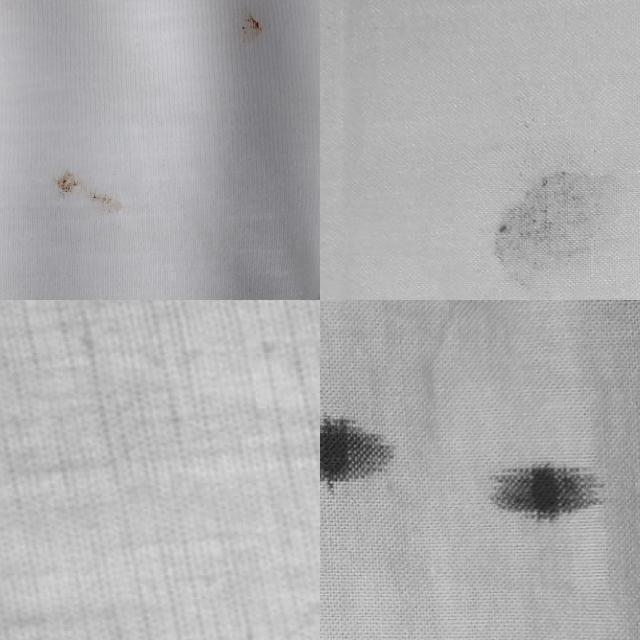Thread_other: (479, 152, 640, 300), (464, 440, 616, 541), (320, 397, 421, 517), (30, 145, 138, 246), (205, 0, 290, 63)
